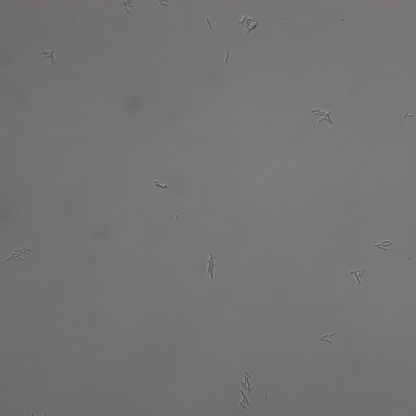R(colony): (311, 107, 334, 124), (6, 248, 31, 263), (241, 370, 254, 392), (350, 267, 365, 284), (374, 238, 393, 251), (319, 331, 336, 344), (238, 394, 250, 412)
